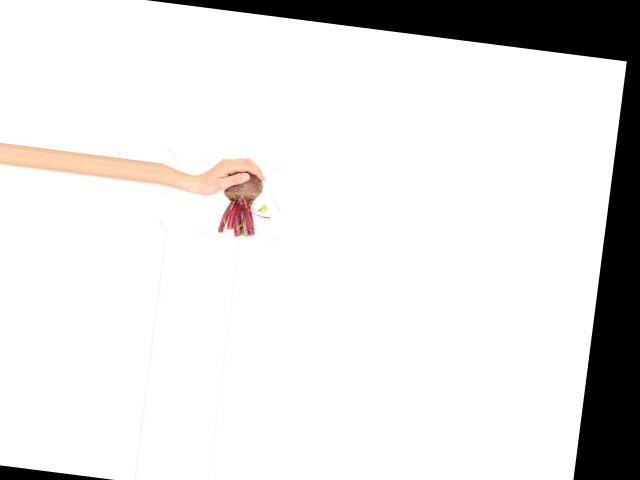beet: (218, 168, 276, 240)
